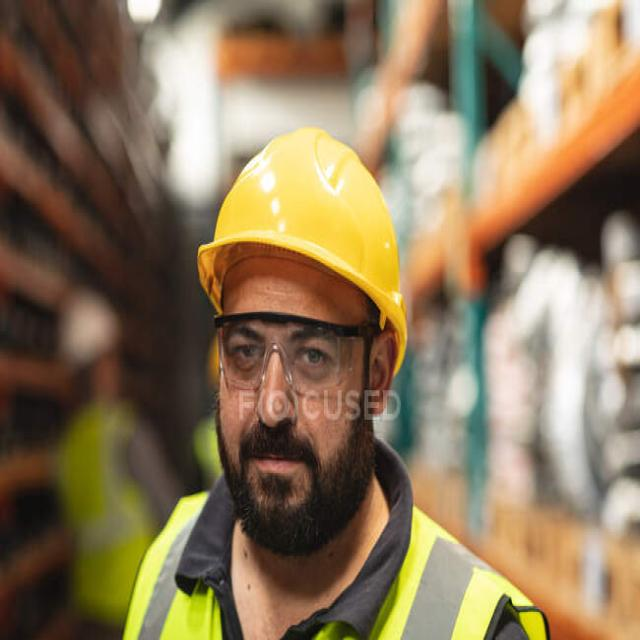goggles: (213, 305, 359, 397)
helmet: (201, 128, 411, 306)
vest: (127, 476, 544, 640)
